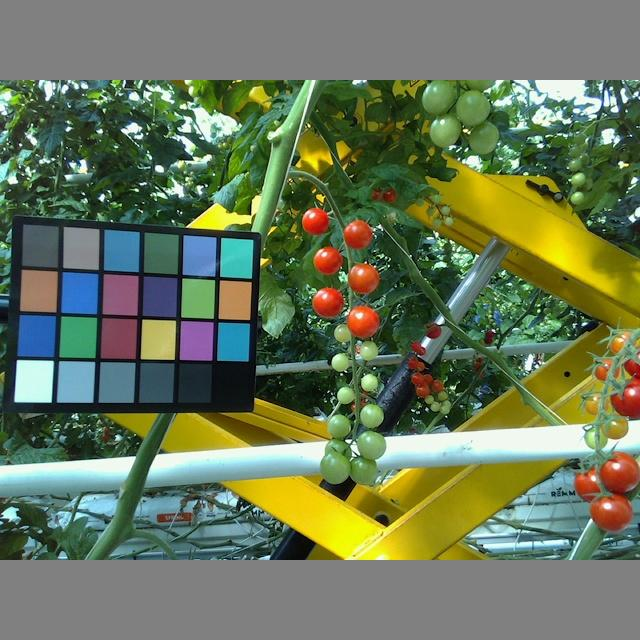green: (421, 81, 459, 118), (455, 88, 491, 127), (428, 112, 463, 148), (466, 119, 499, 155), (319, 450, 350, 485), (349, 454, 379, 486), (356, 430, 388, 460), (581, 425, 611, 450), (357, 402, 385, 428), (326, 412, 352, 439), (359, 338, 379, 362), (332, 322, 353, 343), (336, 385, 356, 405), (331, 353, 352, 372), (360, 372, 378, 393)
pink: (606, 330, 639, 358), (601, 412, 629, 440), (582, 388, 610, 415), (594, 357, 621, 381)
red: (590, 489, 632, 531), (601, 450, 640, 492), (574, 464, 613, 504), (311, 285, 346, 319), (346, 303, 380, 338), (345, 261, 380, 293), (342, 216, 373, 250), (311, 244, 344, 274), (301, 205, 332, 236)
